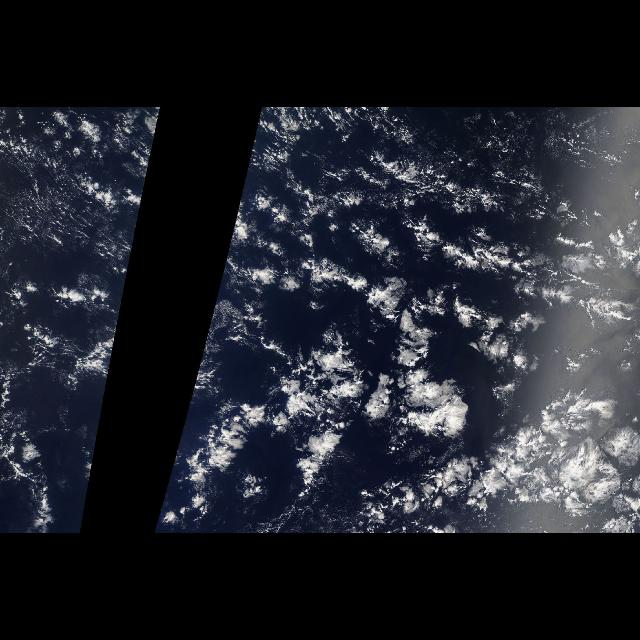Flower: (166, 211, 640, 515)
Sugar: (292, 111, 634, 193)
